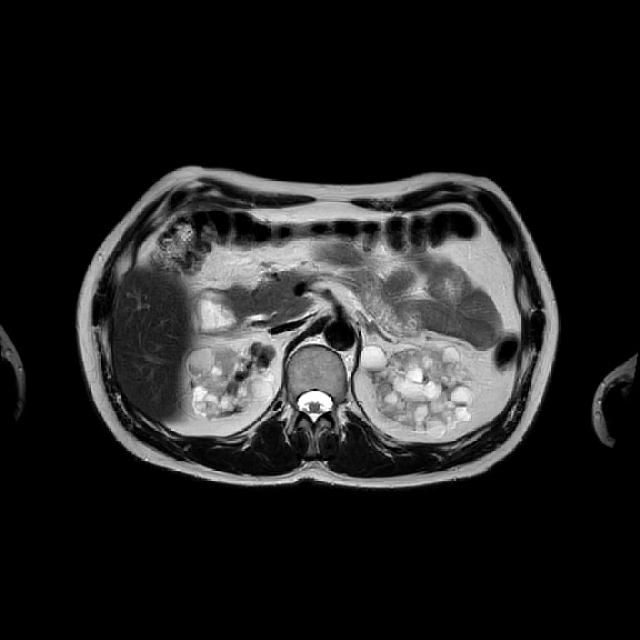sag: (184, 341, 276, 419)
sol: (360, 346, 474, 435)
